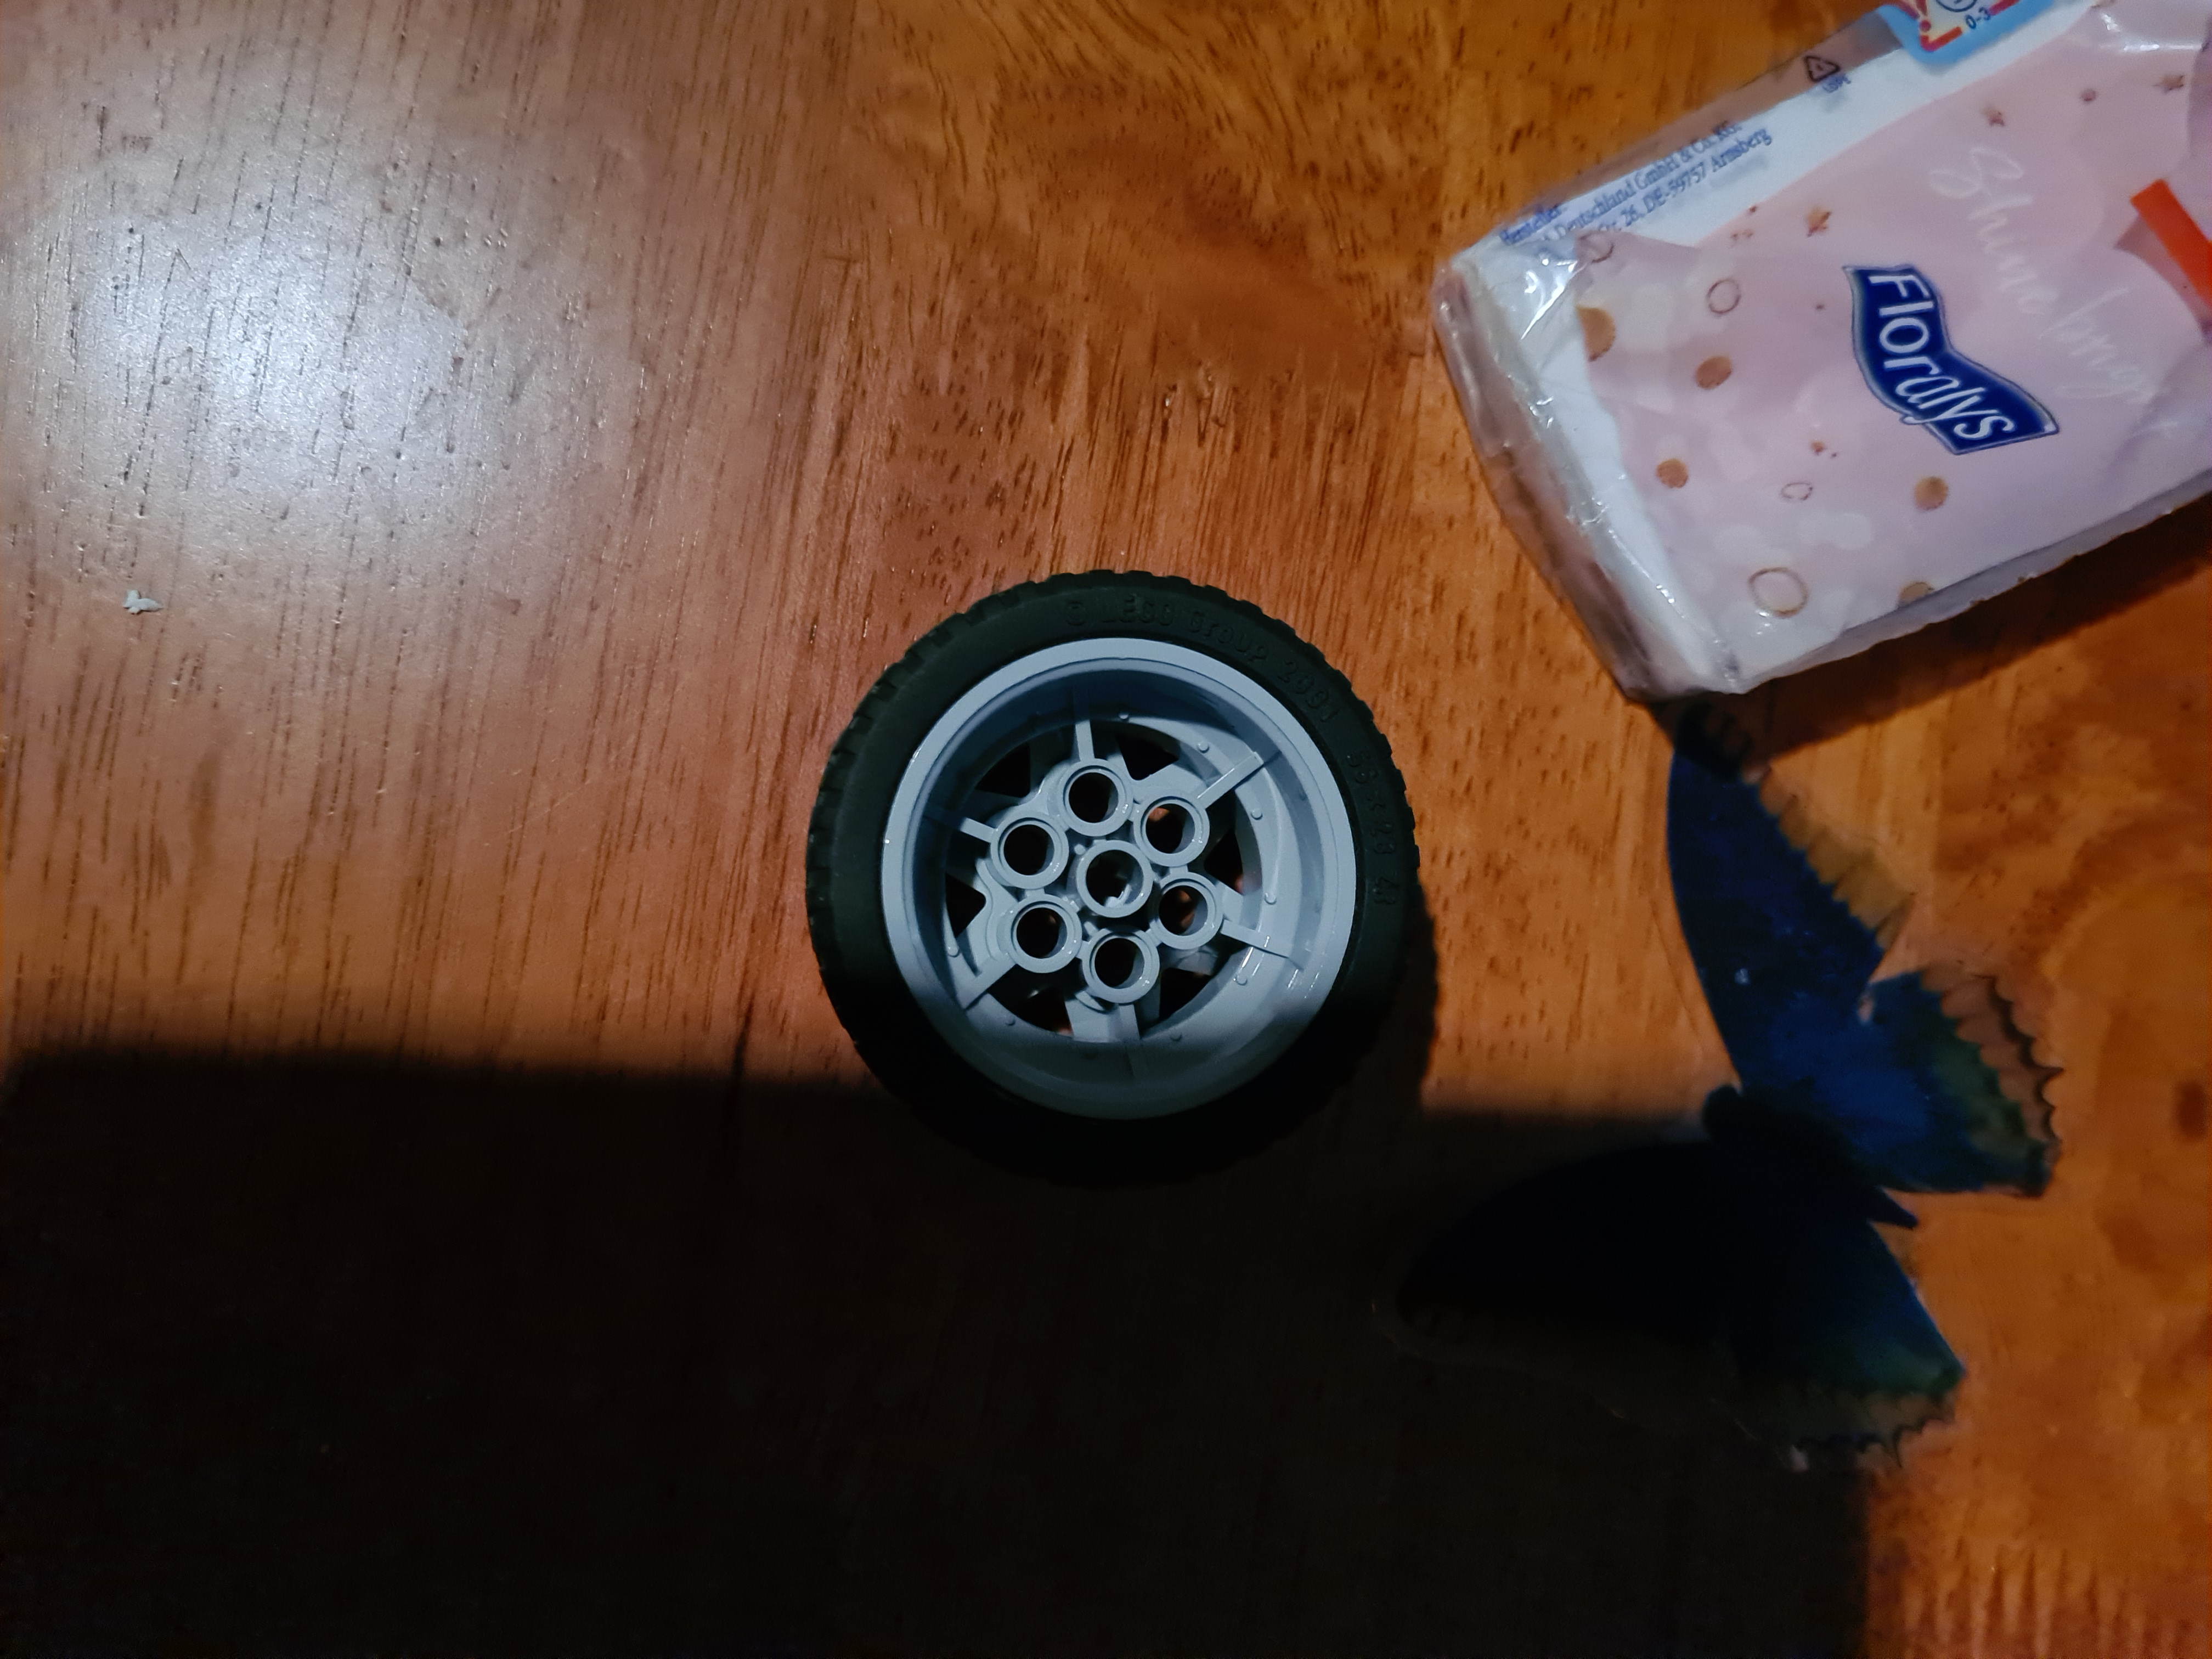Rad: (787, 540, 1440, 1211)
